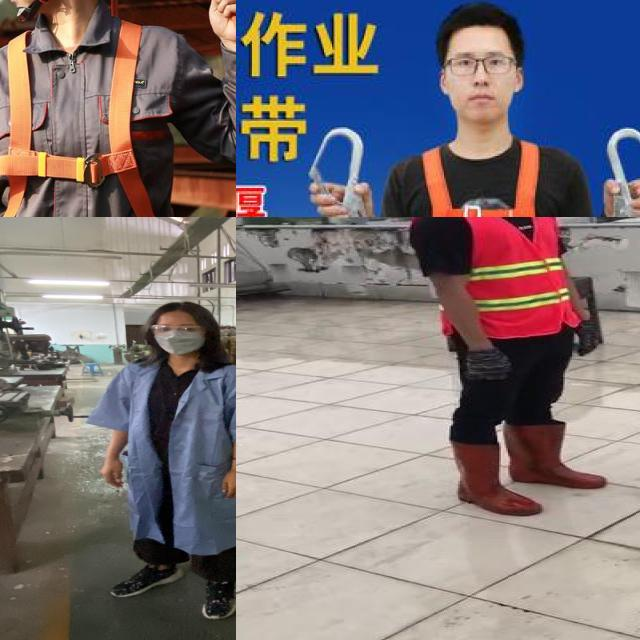Harness: (0, 21, 172, 217), (412, 140, 556, 217)
boots: (456, 348, 522, 384)
face_mask: (146, 321, 211, 356)
glasses: (145, 322, 212, 338)
hand_glove: (450, 430, 546, 520), (505, 420, 612, 490)
hand_noglove: (96, 460, 132, 490), (211, 466, 236, 503)
head_nohelmet: (147, 298, 218, 322)
person: (403, 217, 614, 524), (82, 298, 236, 625)
shoes: (97, 560, 193, 602), (188, 566, 236, 625)
vest: (408, 217, 579, 341)
